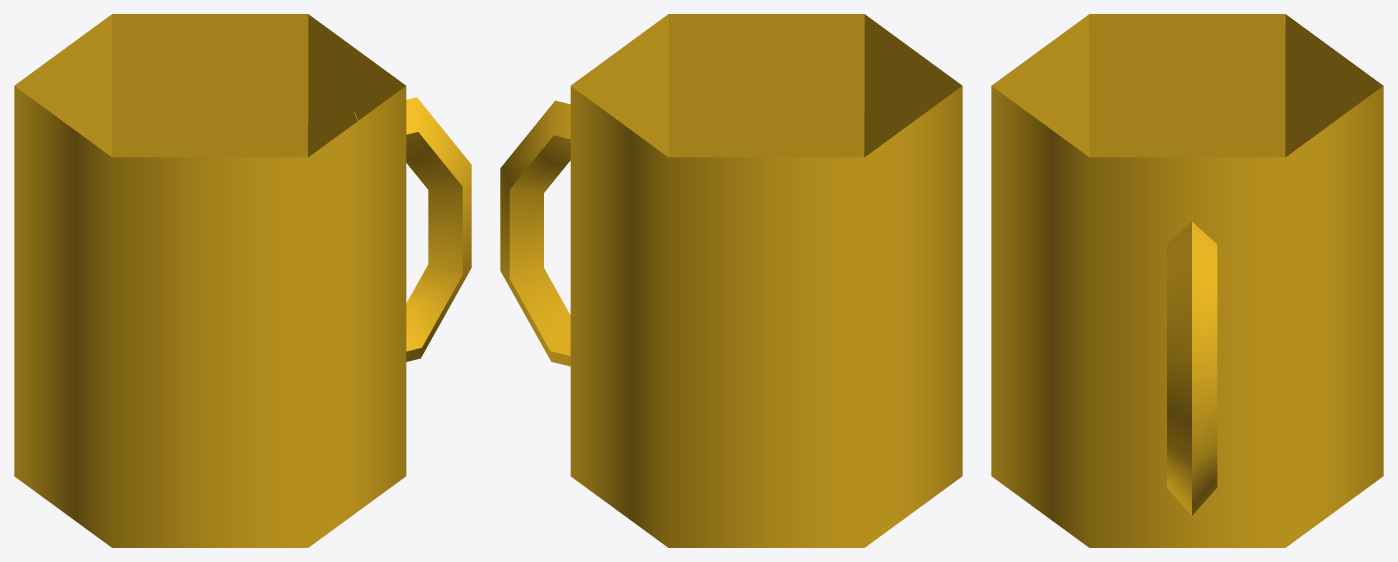
File: MugCup.fbx
3 views of the same model, side by side, from view 1: azimuth 30°, elevation 25°; view 2: azimuth 150°, elevation 25°; view 3: azimuth 270°, elevation 25° (orthographic).
Parts seen in each view (by area): view 1: Line001; view 2: Line001; view 3: Line001.
Part boxes in pixels (<box>): Line001: <box>14,14,471,547</box>; Line001: <box>500,14,962,547</box>; Line001: <box>991,14,1383,547</box>.
Bounding box in the file's own units: 8.93 × 8.11 × 7.38.
